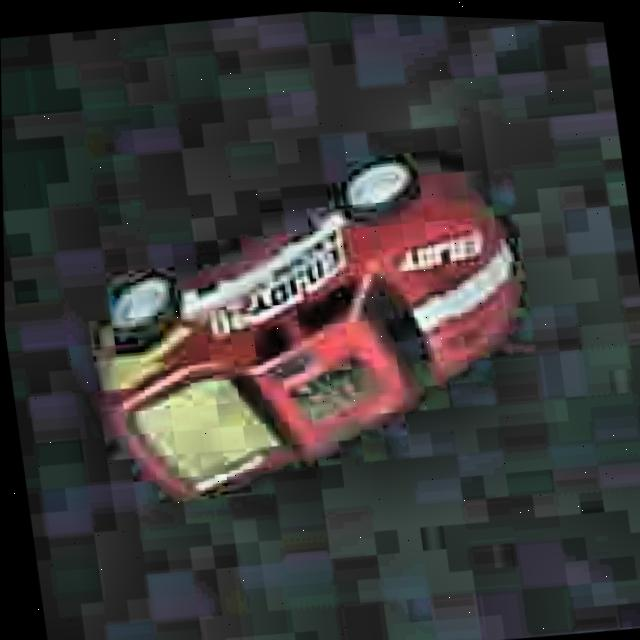car: (59, 118, 541, 527)
